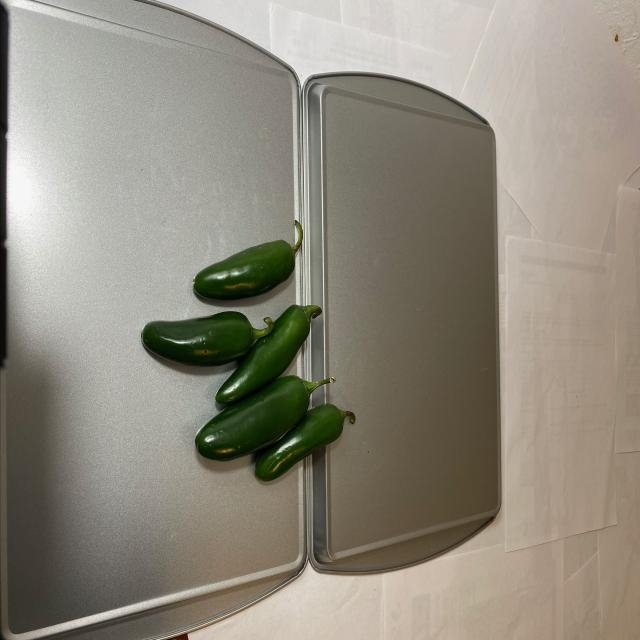chilli: (140, 216, 360, 494)
